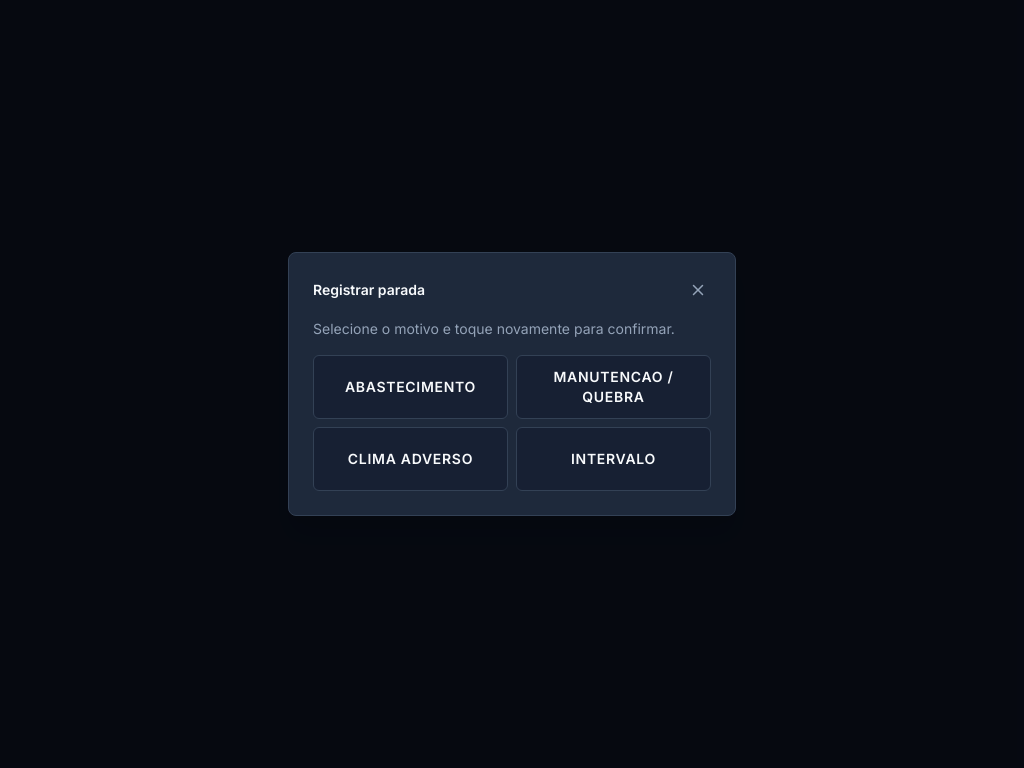
DowntimeModal › shows error message when POST fails
The width and height of the screenshot is (1024, 768).
Step 1. Click the button "Abastecimento" → point(410, 387), box top-left (313, 355), bottom-right (508, 419)
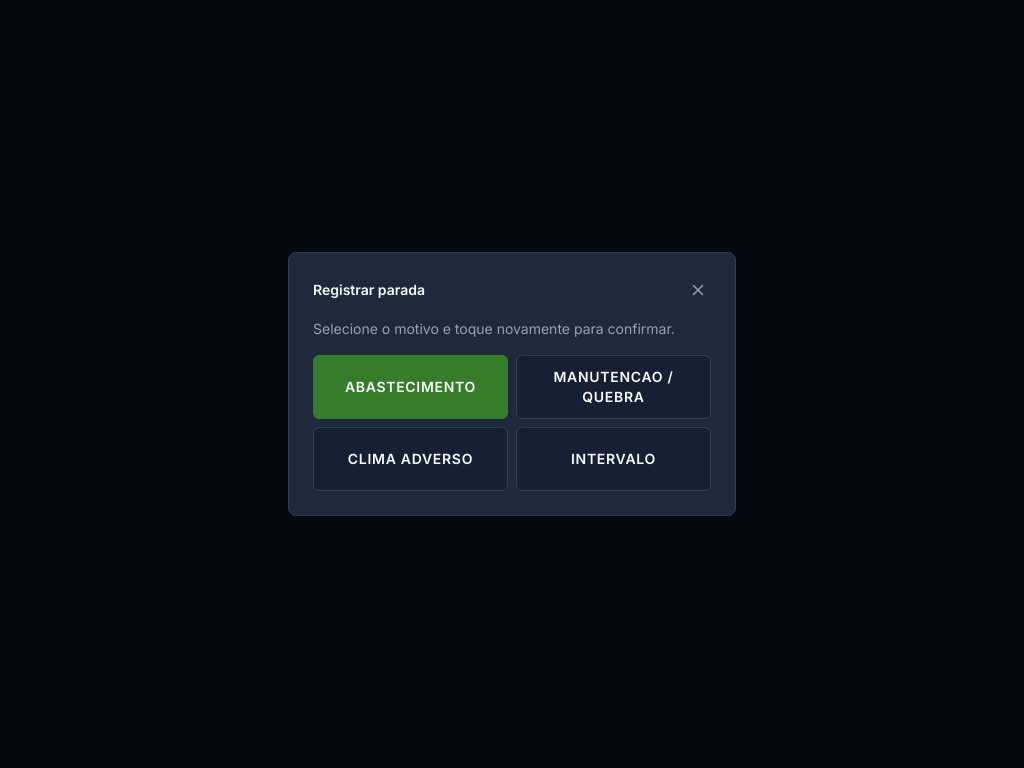
Step 2. Click the button "Abastecimento" → point(410, 387), box top-left (313, 355), bottom-right (508, 419)
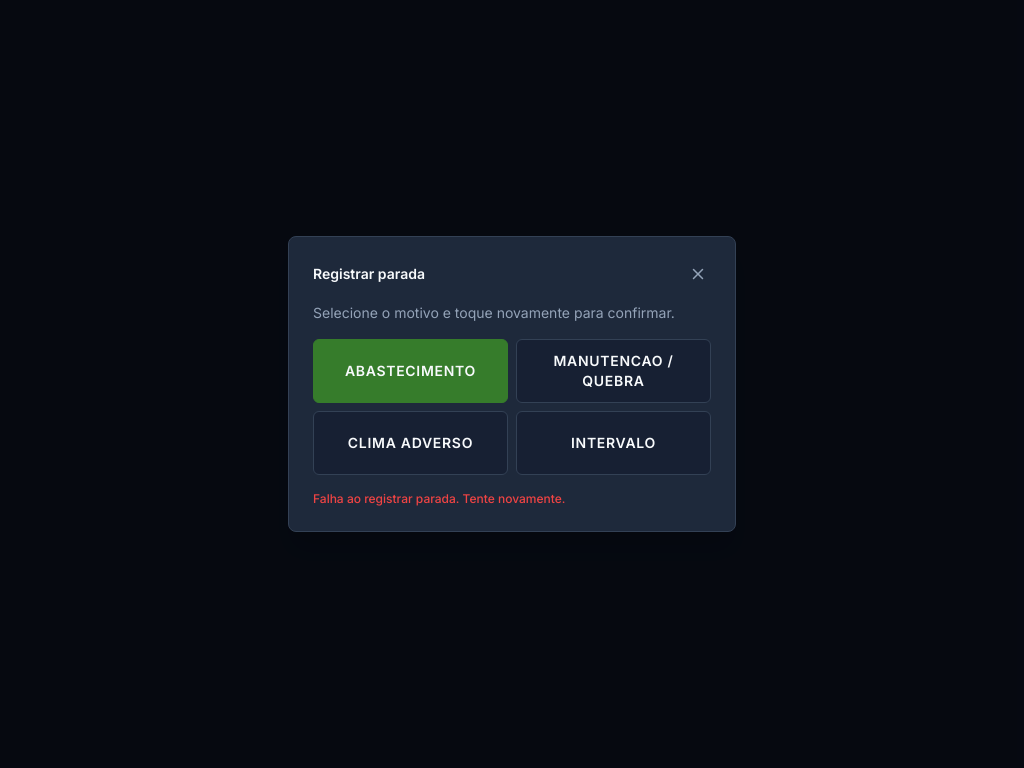
expect the text "Falha ao registrar parada. Tente novamente." is shown: met, box top-left (313, 491), bottom-right (565, 506)
